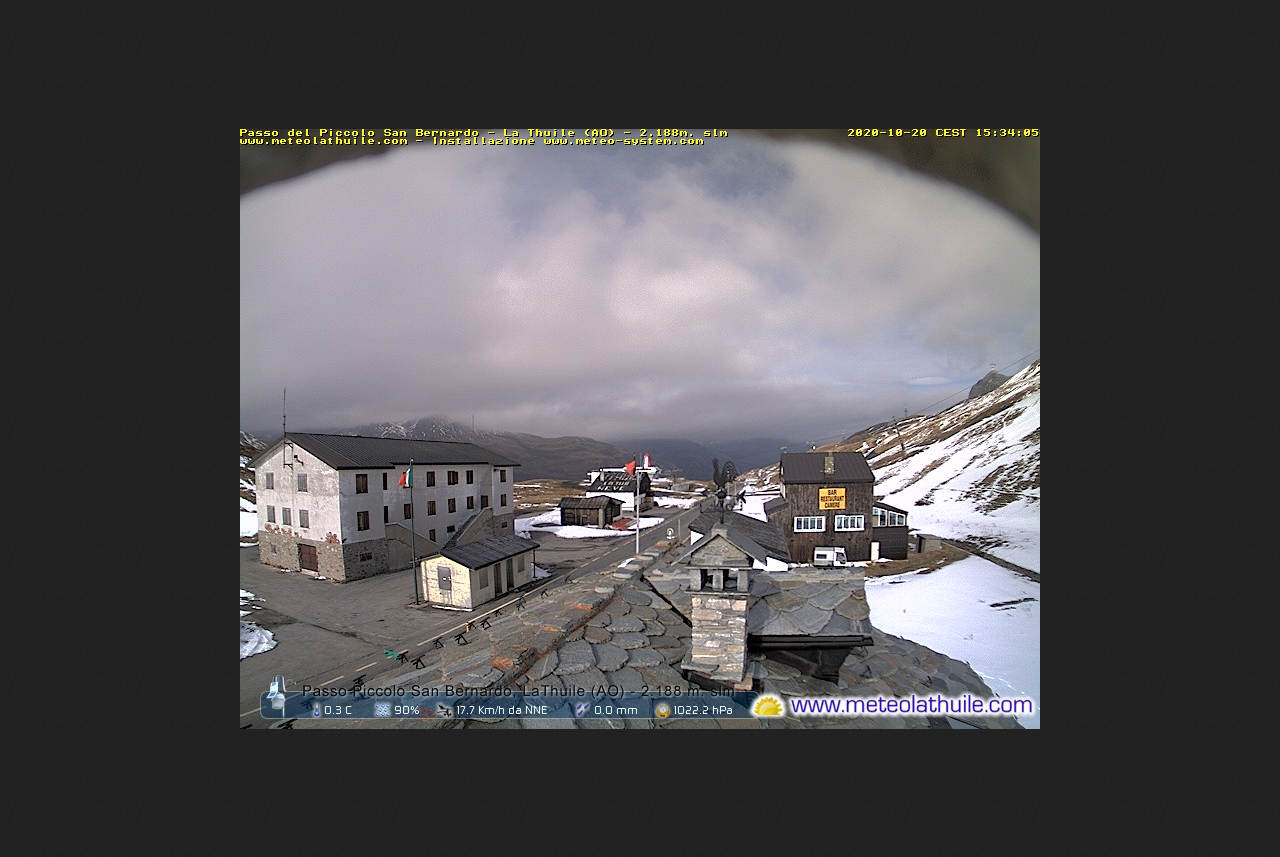maybe: (641, 451, 658, 475)
yes: (394, 468, 416, 490), (622, 461, 638, 477)
